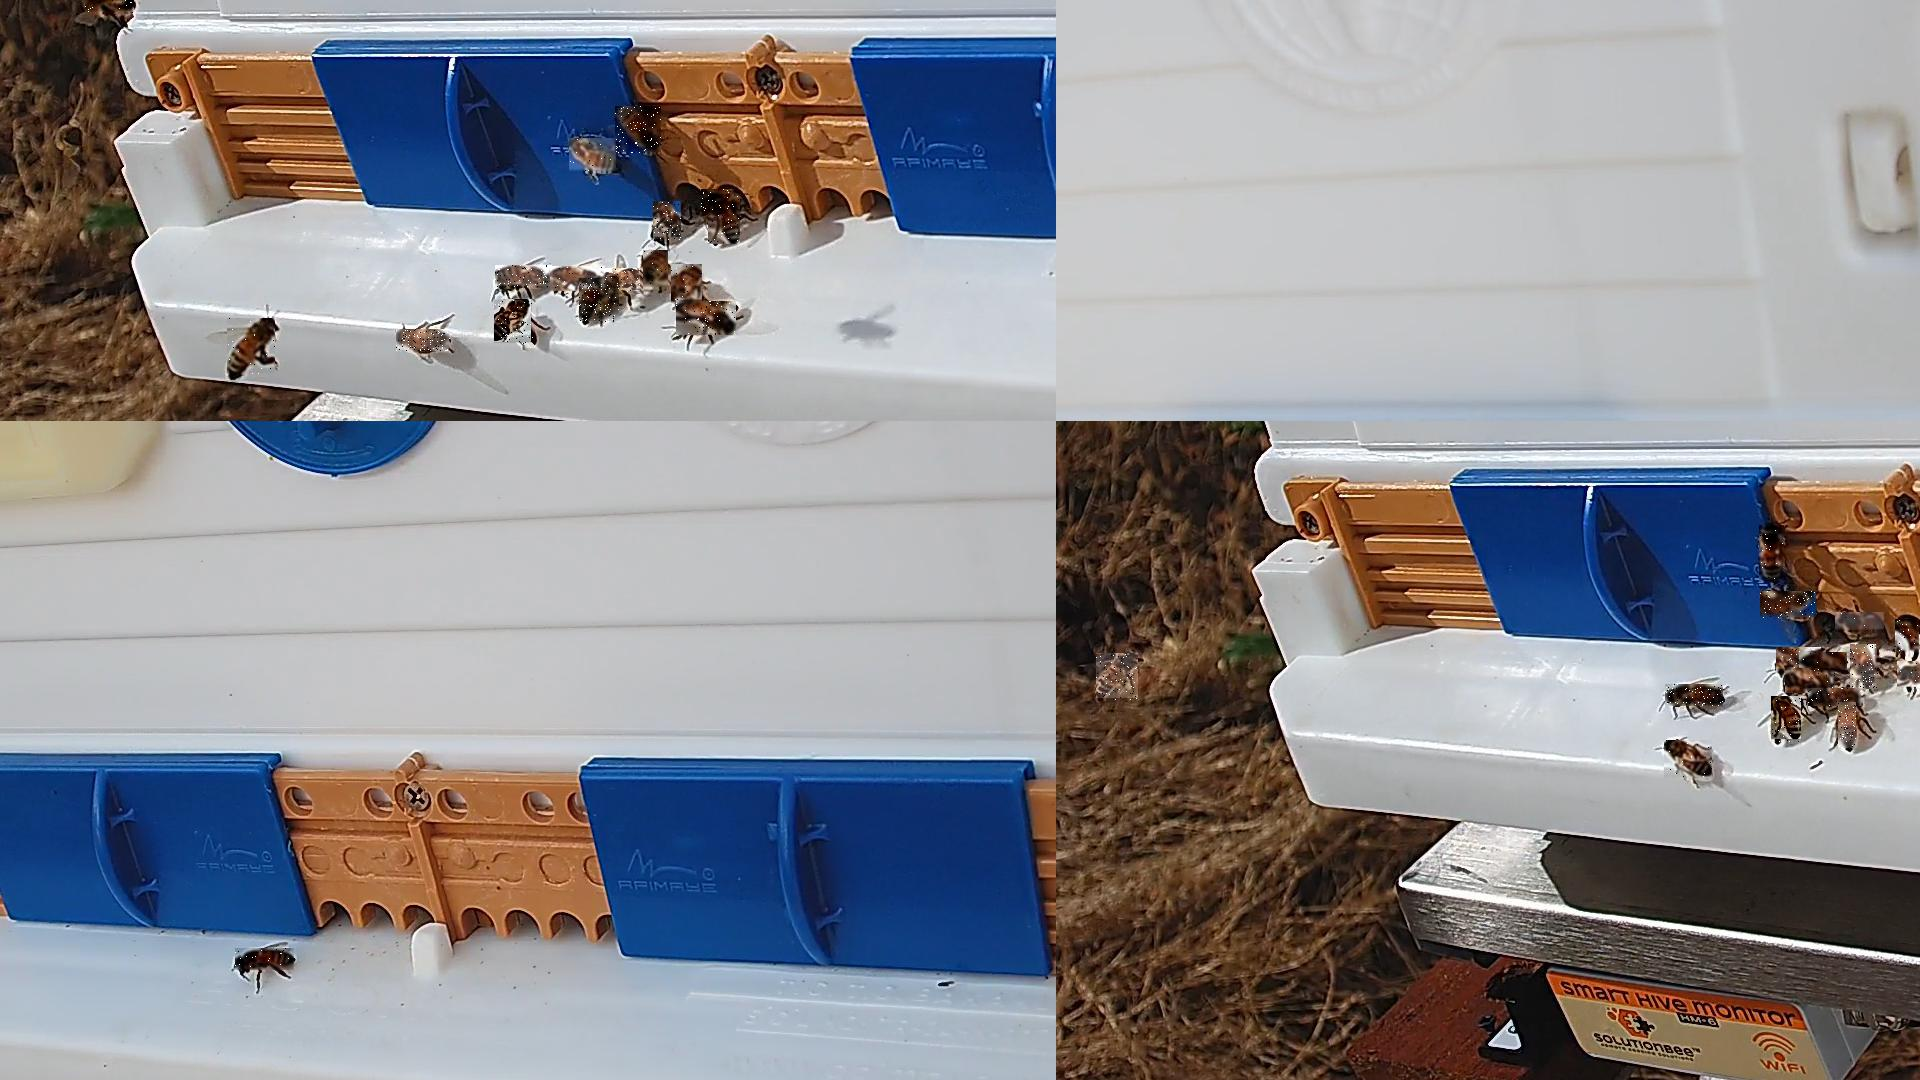bee: (227, 319, 276, 377), (615, 107, 662, 154), (676, 301, 737, 336), (1096, 654, 1139, 702), (495, 299, 535, 347), (1664, 741, 1713, 781), (579, 280, 620, 324), (570, 138, 617, 174), (708, 196, 741, 245), (1771, 696, 1801, 744), (550, 266, 607, 291), (1760, 526, 1785, 583), (1785, 669, 1838, 695), (235, 948, 295, 971), (671, 265, 703, 307), (1665, 684, 1725, 707), (397, 330, 452, 353), (495, 266, 553, 289), (1851, 645, 1880, 690), (1776, 647, 1822, 674), (653, 202, 682, 241), (1809, 688, 1863, 707), (644, 251, 669, 290), (1836, 613, 1886, 633), (607, 269, 644, 295), (1895, 618, 1919, 655), (1838, 703, 1857, 750), (1799, 653, 1849, 670), (702, 190, 735, 215), (84, 0, 136, 15), (1898, 661, 1919, 688)
pollenbee: (1760, 592, 1817, 620)
